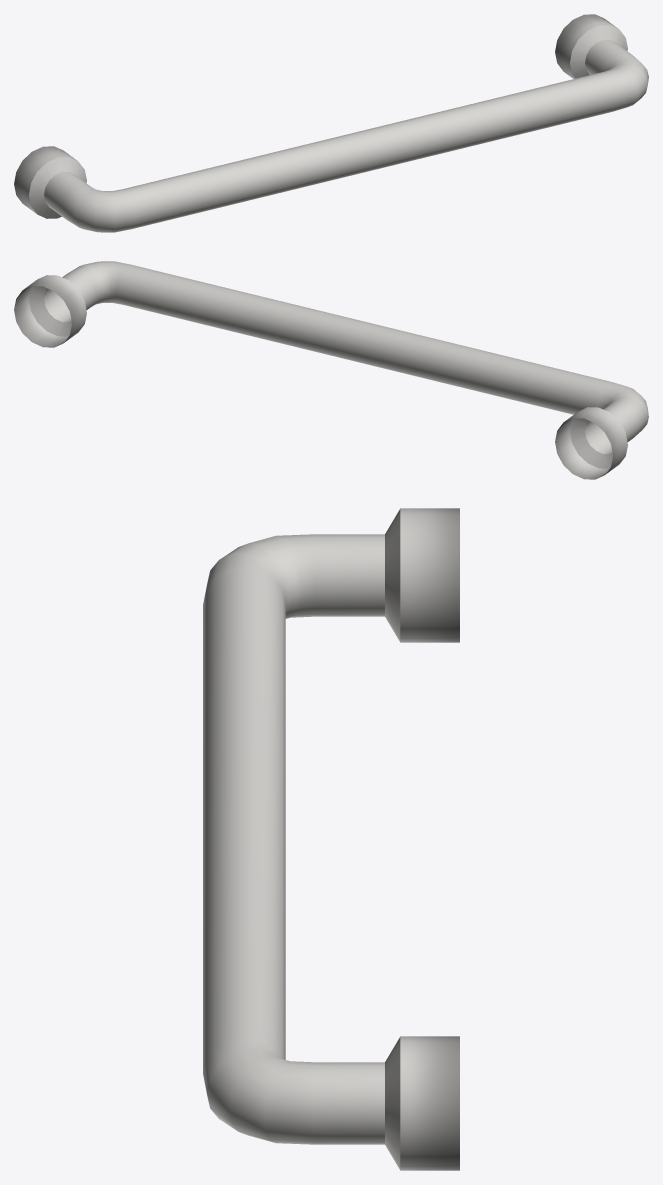
File: toilet_hanger.FBX
3 renders of one model, top to bottom at view 1: azimuth 30°, elevation 25°; view 2: azimuth 150°, elevation 25°; view 3: azimuth 270°, elevation 25°, orthographic. The views are drawn at different scales.
Visible parts, largest first — view 1: towel_hanger; view 2: towel_hanger; view 3: towel_hanger.
Boxes of the visible parts, left/top/right/bottom form: towel_hanger: left=14, top=14, right=648, bottom=232; towel_hanger: left=14, top=261, right=648, bottom=479; towel_hanger: left=203, top=508, right=459, bottom=1170.
Bounding box in the file's own units: 51.77 × 5.03 × 9.61.
1 material, 1 textured.
